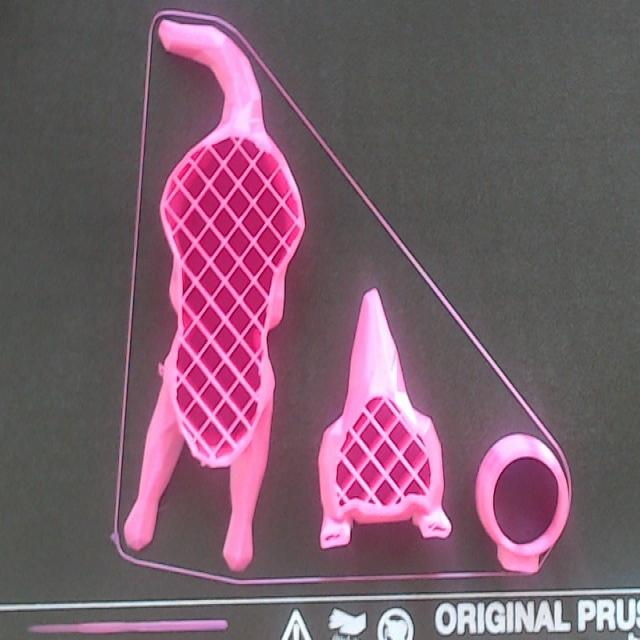mistake: (160, 497, 171, 511), (158, 363, 163, 377), (202, 464, 210, 472)
